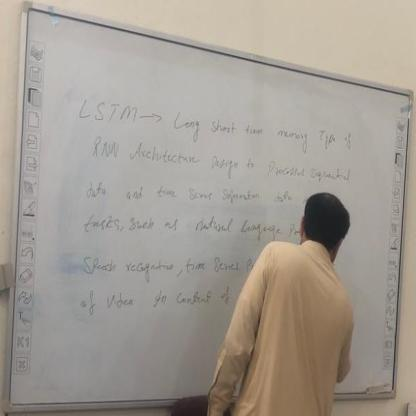Handwritten text: (70, 80, 365, 170), (83, 130, 357, 201), (78, 169, 299, 212), (68, 208, 287, 248), (74, 279, 217, 320), (73, 247, 239, 281)
Lecturer: (224, 185, 373, 398)
Whiteboard: (8, 10, 416, 416)
